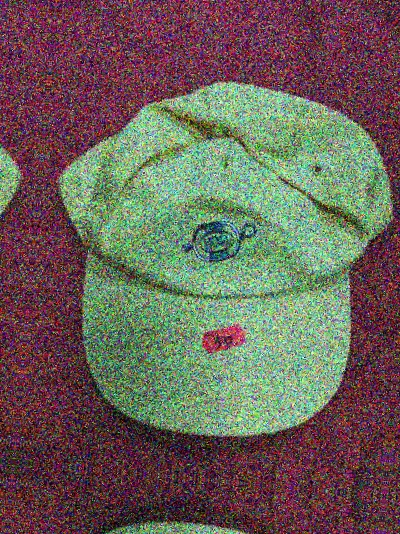Hat: (29, 42, 400, 448), (0, 8, 41, 414), (0, 511, 363, 534)
